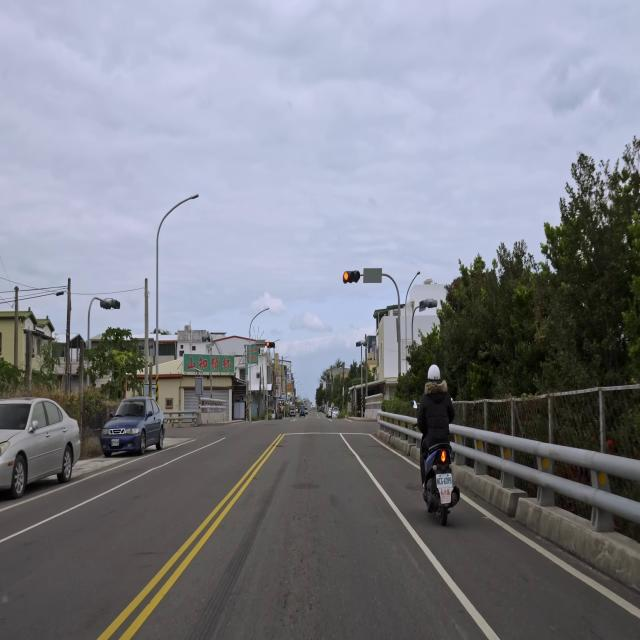red light: (342, 270, 360, 282), (266, 342, 275, 348)
